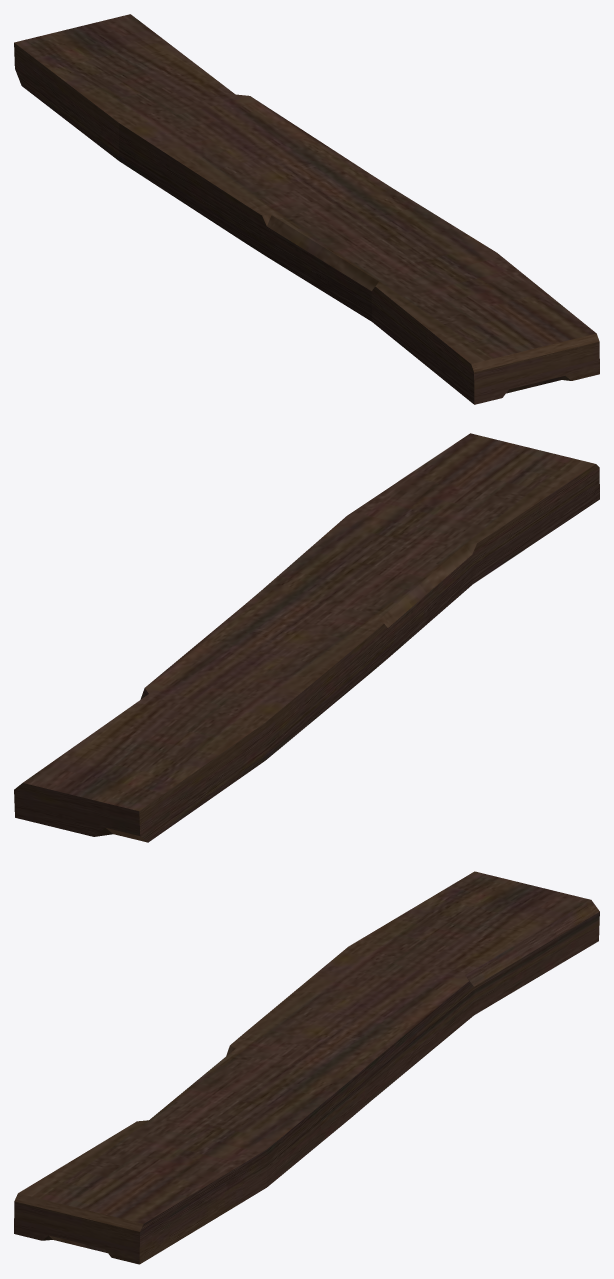
File: WoodplankBroken.fbx
3 views of the same model, one above another, from view 1: azimuth 30°, elevation 25°; view 2: azimuth 150°, elevation 25°; view 3: azimuth 330°, elevation 25° (orthographic).
Visible parts, largest first — view 1: PlankBroken2, PlankBroken1; view 2: PlankBroken1, PlankBroken2; view 3: PlankBroken2, PlankBroken1.
Part boxes in pixels (x1,y1,x2,y2): PlankBroken2: [244, 174, 599, 404]; PlankBroken1: [14, 14, 369, 241]; PlankBroken1: [14, 605, 369, 842]; PlankBroken2: [245, 433, 599, 673]; PlankBroken2: [14, 1031, 369, 1264]; PlankBroken1: [244, 871, 599, 1101].
Size of the model in its own units: 165 by 53.87 by 886.
1 material, 1 textured.
